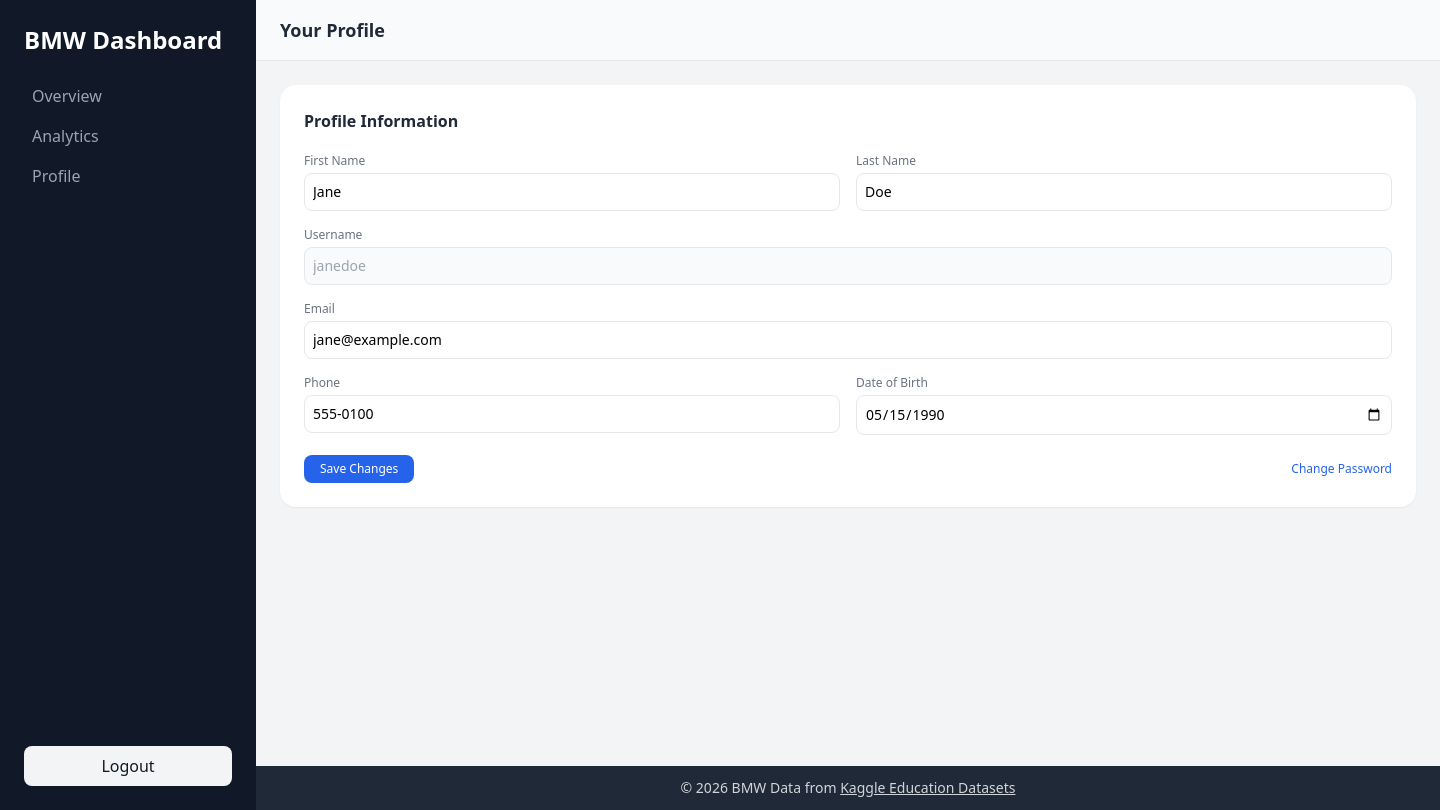
Profile page — Change Password modal › opens the modal when "Change Password" link is clicked
This screenshot has width=1440, height=810.
Click the button "Change Password". click: (1342, 469)
box: [1291, 461, 1392, 477]
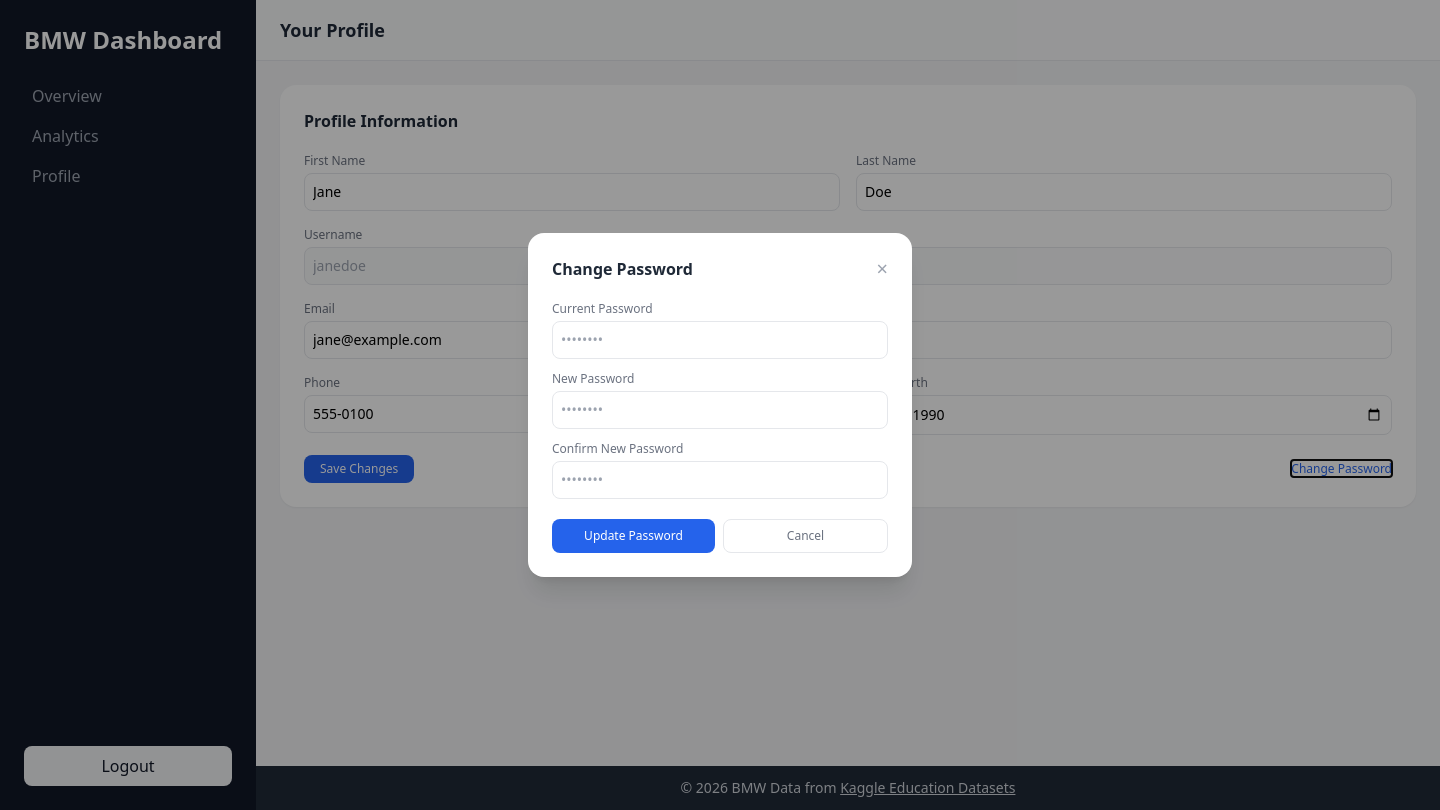
Expected: the heading "Change Password" is shown, [552, 257, 693, 281]
